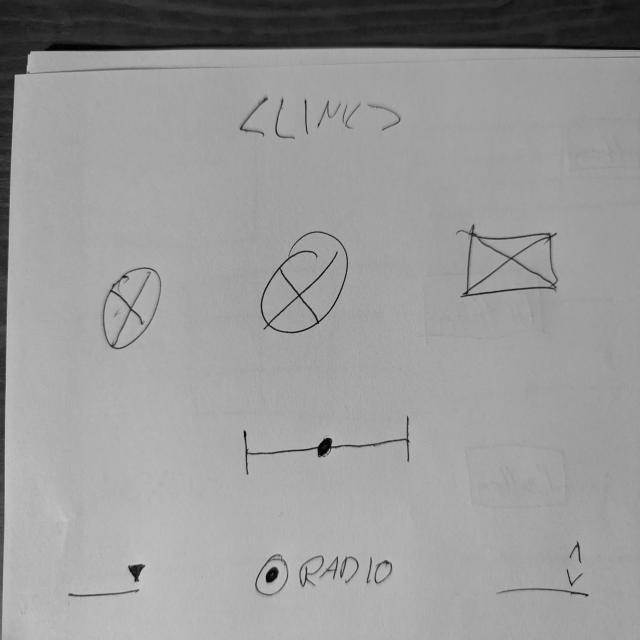image: (259, 229, 352, 339), (459, 227, 565, 303), (100, 264, 168, 356)
link: (236, 93, 407, 147)
number-input: (496, 538, 594, 604)
radio: (252, 550, 397, 602)
select: (67, 558, 149, 605)
slider: (239, 414, 417, 479)
